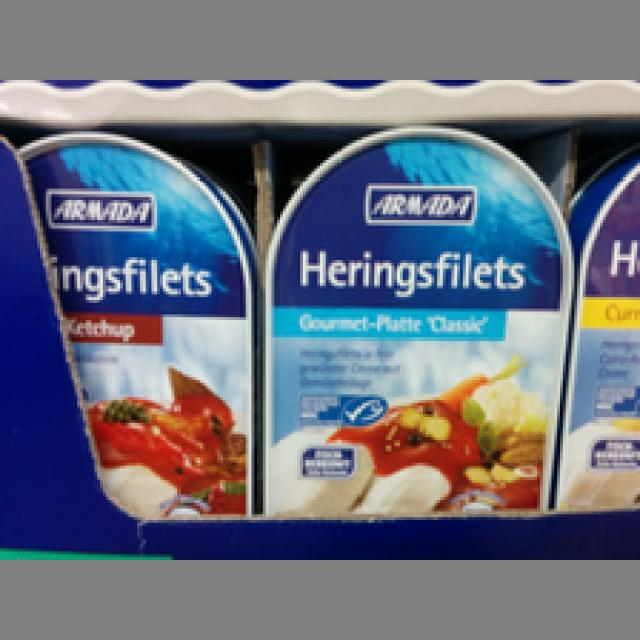groceries: (263, 126, 568, 514), (14, 128, 257, 512)
